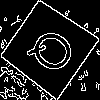Q: (24, 23, 87, 83)
